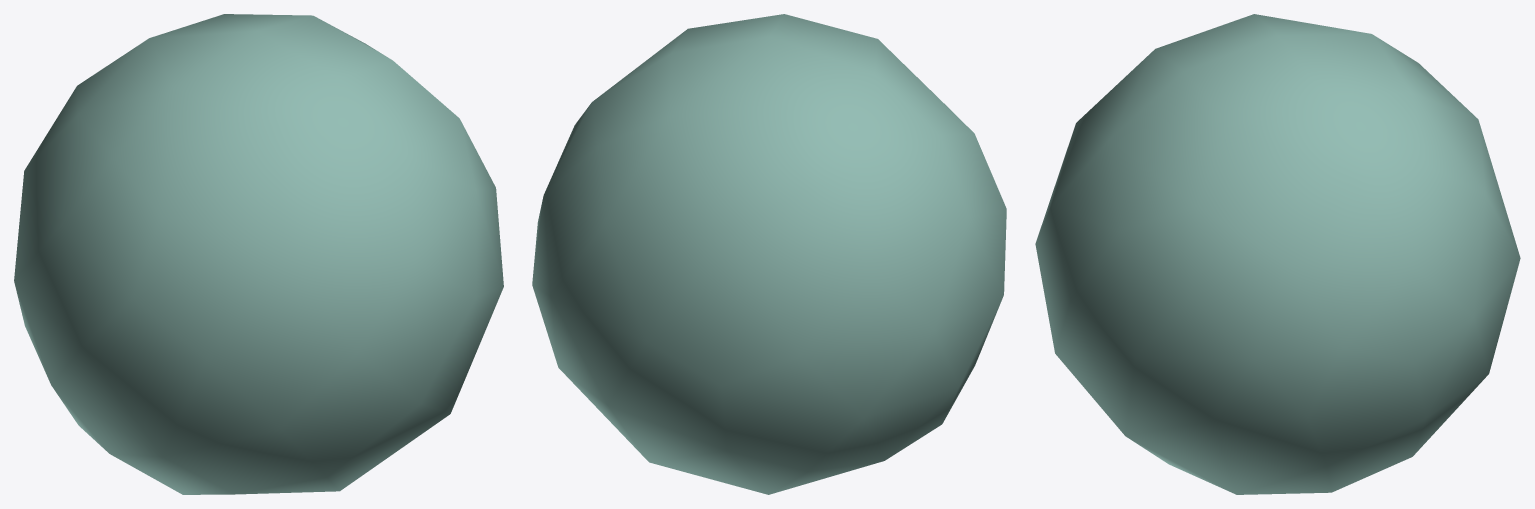
3 renders of one model, left to right at view 1: azimuth 30°, elevation 25°; view 2: azimuth 150°, elevation 25°; view 3: azimuth 270°, elevation 25°, orthographic. The views are drawn at different scales.
Bounding box in the file's own units: 1.96 × 2 × 1.99.
